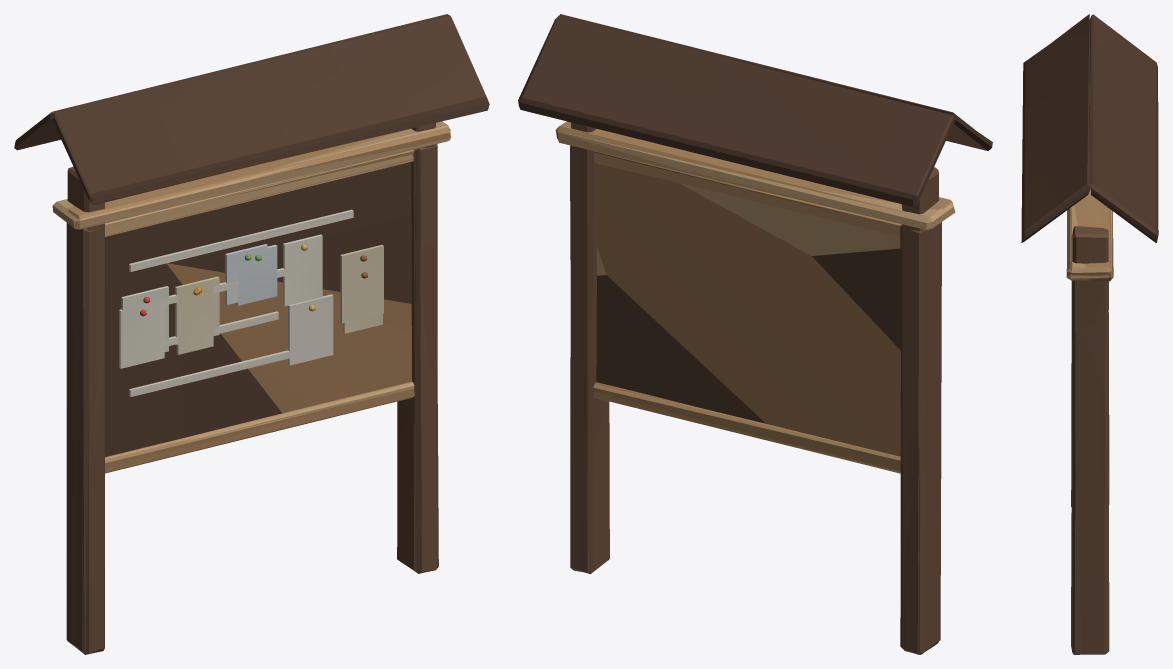
The model's file is notice_board.glb.
3 renders of one model, left to right at view 1: azimuth 30°, elevation 25°; view 2: azimuth 150°, elevation 25°; view 3: azimuth 270°, elevation 25°, orthographic. The views are drawn at different scales.
Visible parts, largest first — view 1: notice_board.v0.mesh, notice_board.v2.mesh, notice_board.v1.mesh; view 2: notice_board.v1.mesh, notice_board.v0.mesh, notice_board.v2.mesh; view 3: notice_board.v0.mesh, notice_board.v1.mesh, notice_board.v2.mesh.
Part boxes in pixels (<box>): notice_board.v0.mesh: <box>14,14,489,654</box>; notice_board.v2.mesh: <box>52,121,450,652</box>; notice_board.v1.mesh: <box>53,127,450,654</box>; notice_board.v1.mesh: <box>555,121,952,654</box>; notice_board.v0.mesh: <box>518,14,992,654</box>; notice_board.v2.mesh: <box>557,130,955,653</box>; notice_board.v0.mesh: <box>1021,14,1158,654</box>; notice_board.v1.mesh: <box>1067,188,1113,654</box>; notice_board.v2.mesh: <box>1066,205,1112,654</box>.
Bounding box in the file's own units: 1.81 × 2.35 × 0.6057.
